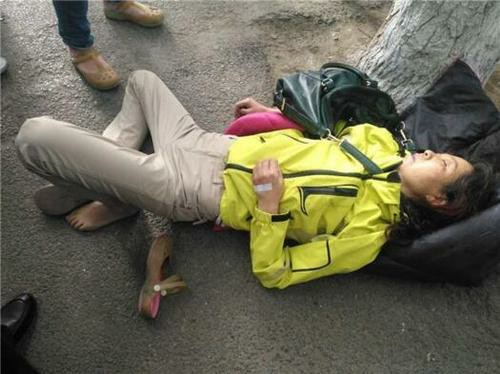fall: (9, 34, 498, 337)
